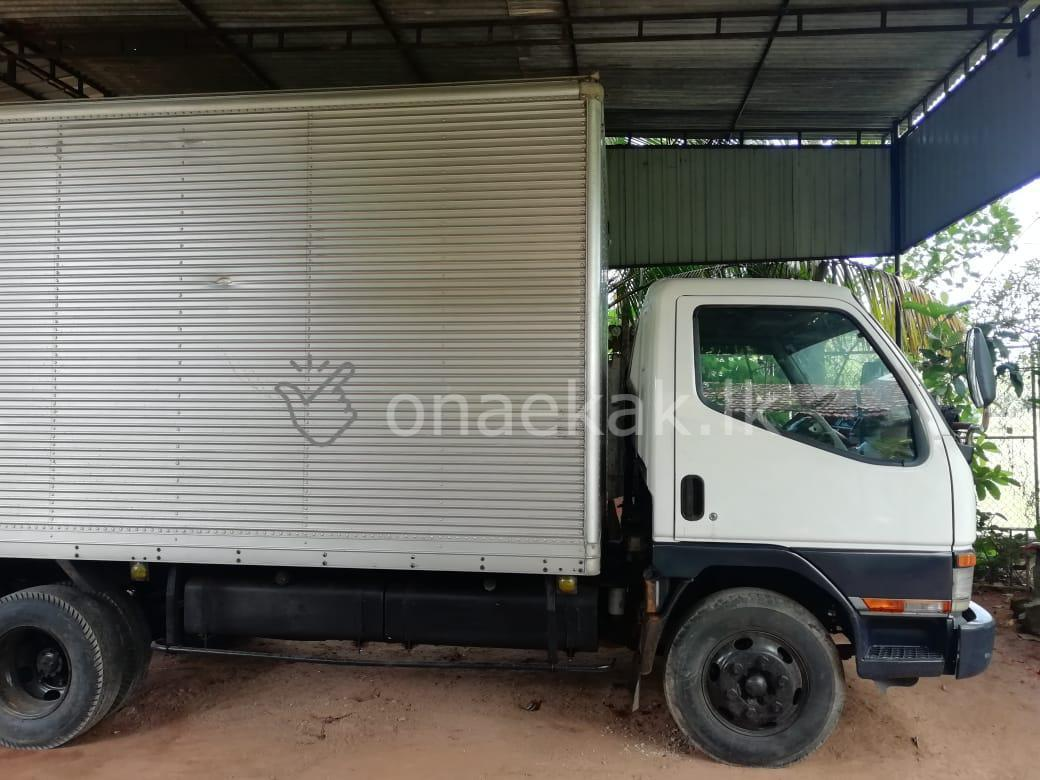truck: (1, 70, 997, 767)
